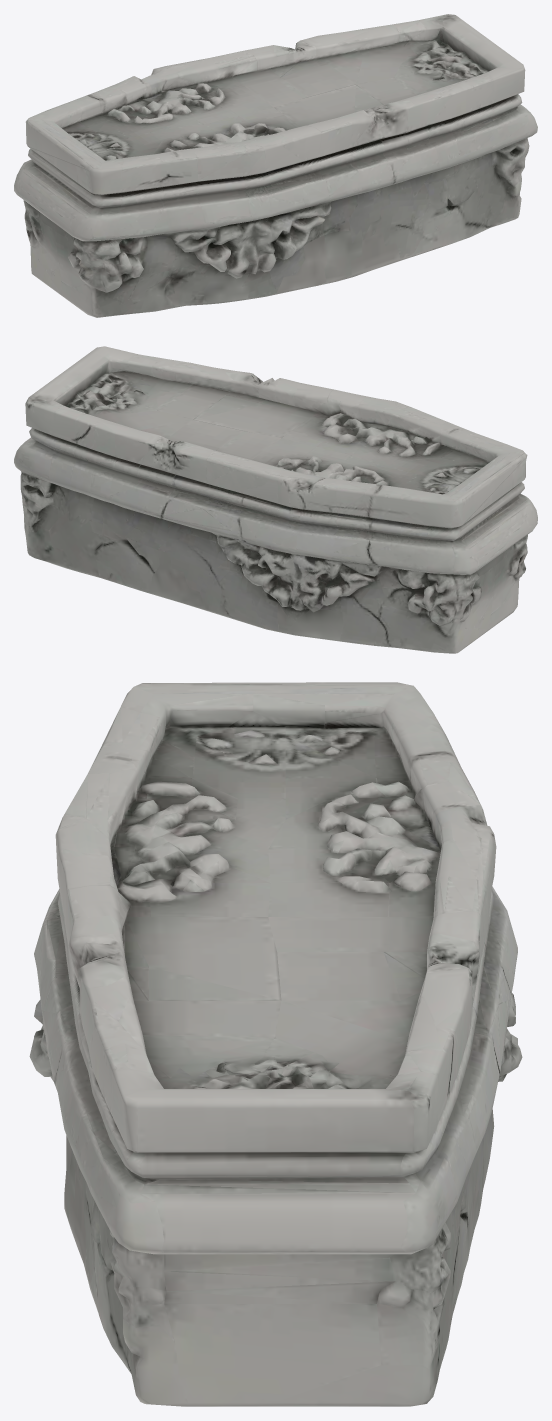
The model's file is coffin.glb.
The picture shows the model from 3 angles, top to bottom: view 1: azimuth 30°, elevation 25°; view 2: azimuth 150°, elevation 25°; view 3: azimuth 270°, elevation 25°; orthographic projection. The views are drawn at different scales.
Size of the model in its own units: 1.91 by 0.6146 by 0.8884.
1 material, 1 textured.
